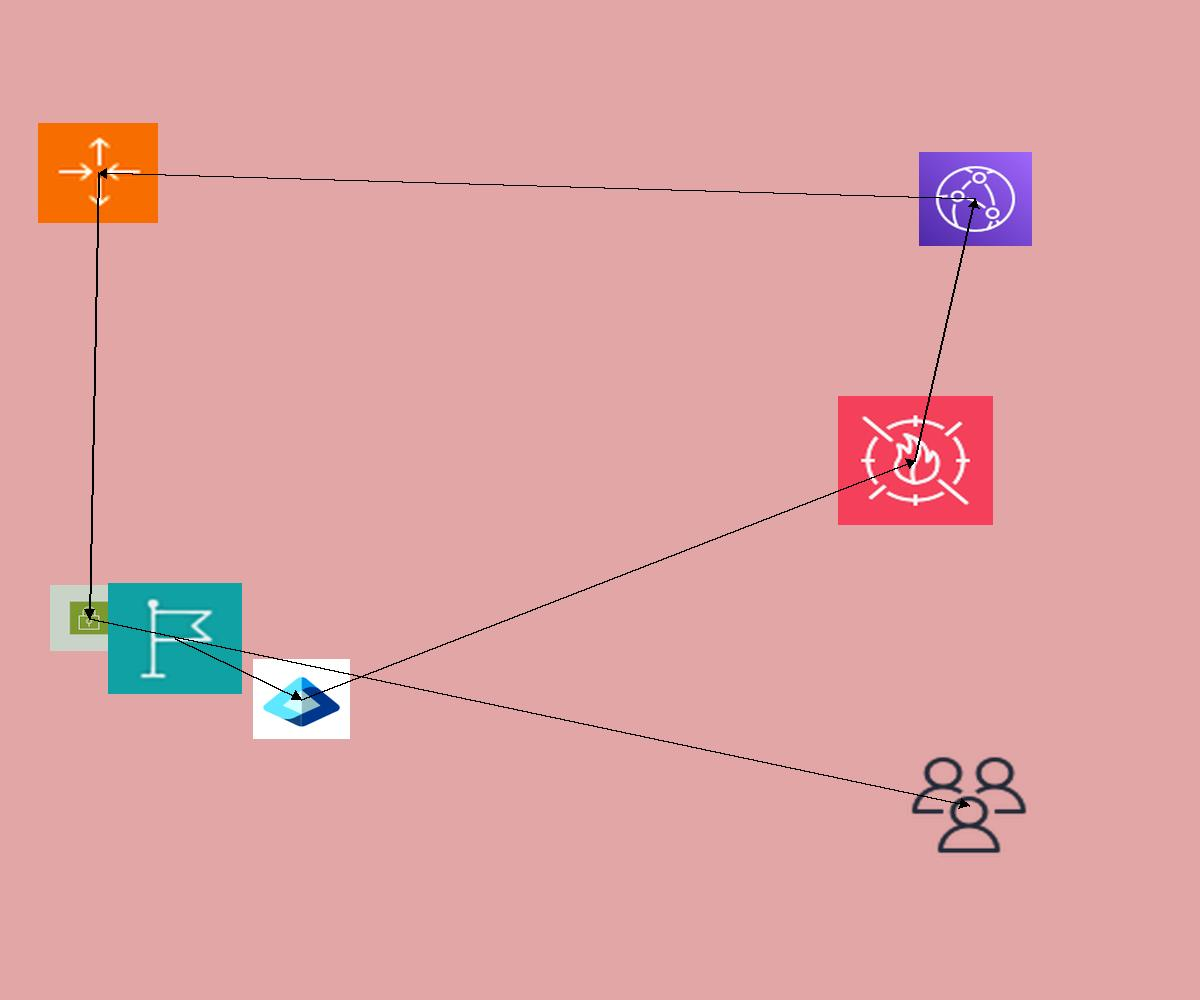AWS-CloudFront: (919, 152, 1032, 246)
AWS-Public-subnet: (50, 585, 129, 651)
AWS-Region: (108, 583, 242, 694)
AWS-Res_Users: (907, 753, 1031, 857)
AWS-Scaling-group: (38, 123, 158, 223)
AWS-WAF: (838, 396, 993, 525)
Azure_microsoft_entra: (253, 659, 350, 739)
